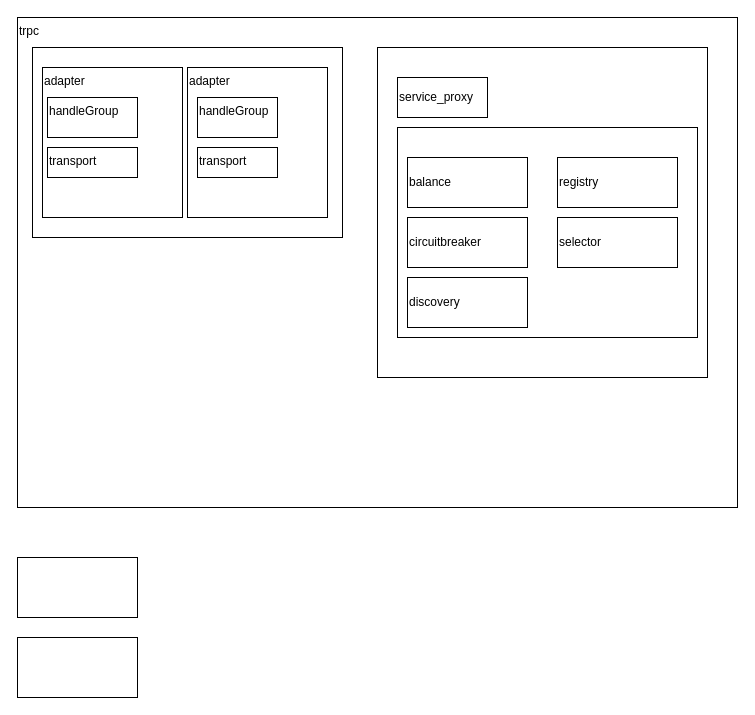
Some shapes in this 755 by 715 pixel diagram are drawn without their labels. The shapes that lost their labels are listed below. From the top down, each one's box as (x1, y1, x2, y2) in pixels, then its label:
(376, 46, 708, 378): client
(396, 126, 698, 338): naming
